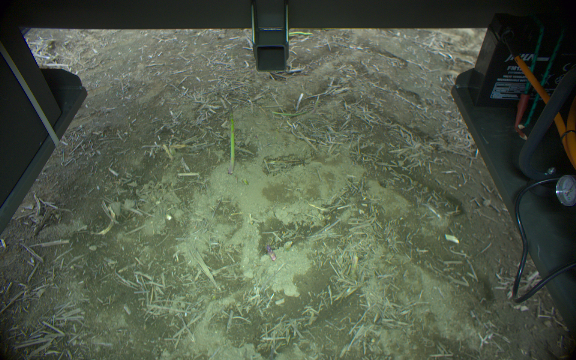aspa: (227, 103, 237, 174), (264, 243, 277, 260), (290, 31, 312, 37)
